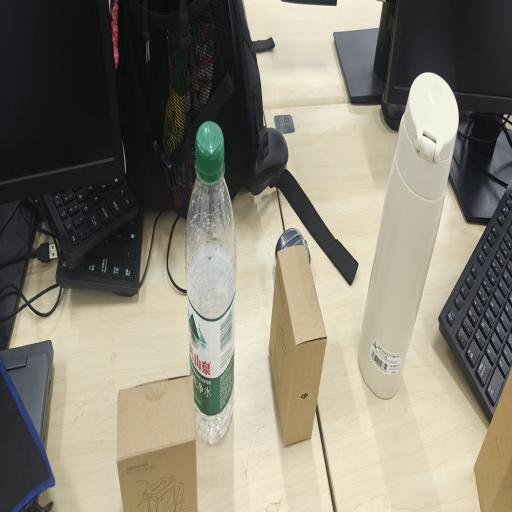bottle: (358, 72, 459, 398), (185, 121, 236, 444)
box: (268, 246, 326, 445), (117, 375, 198, 512), (474, 380, 512, 512)
